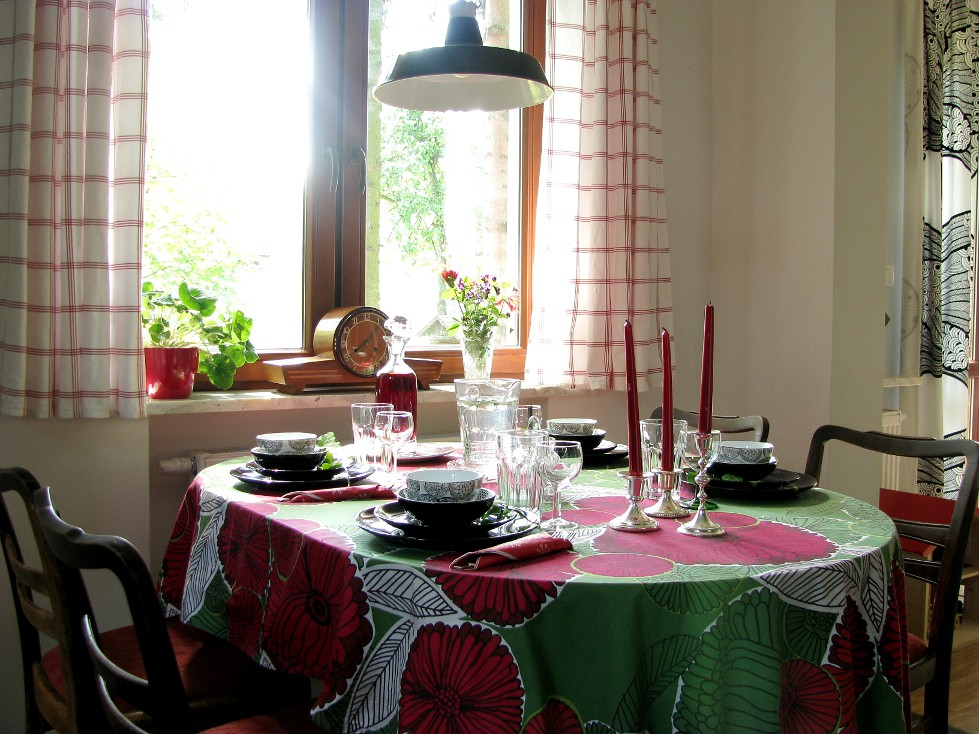dining table: (189, 408, 922, 734)
